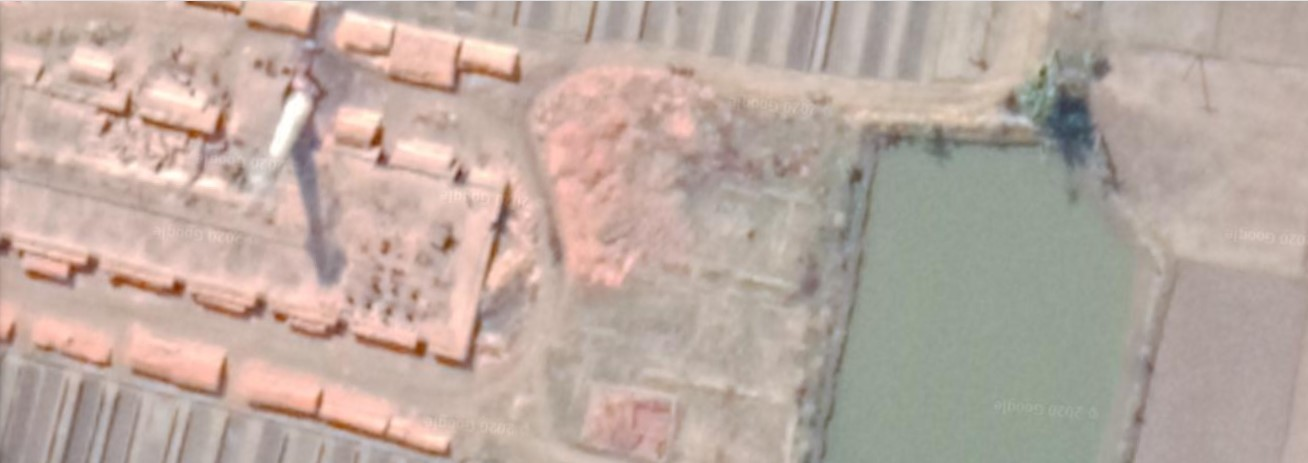kiln: (1, 3, 478, 374)
